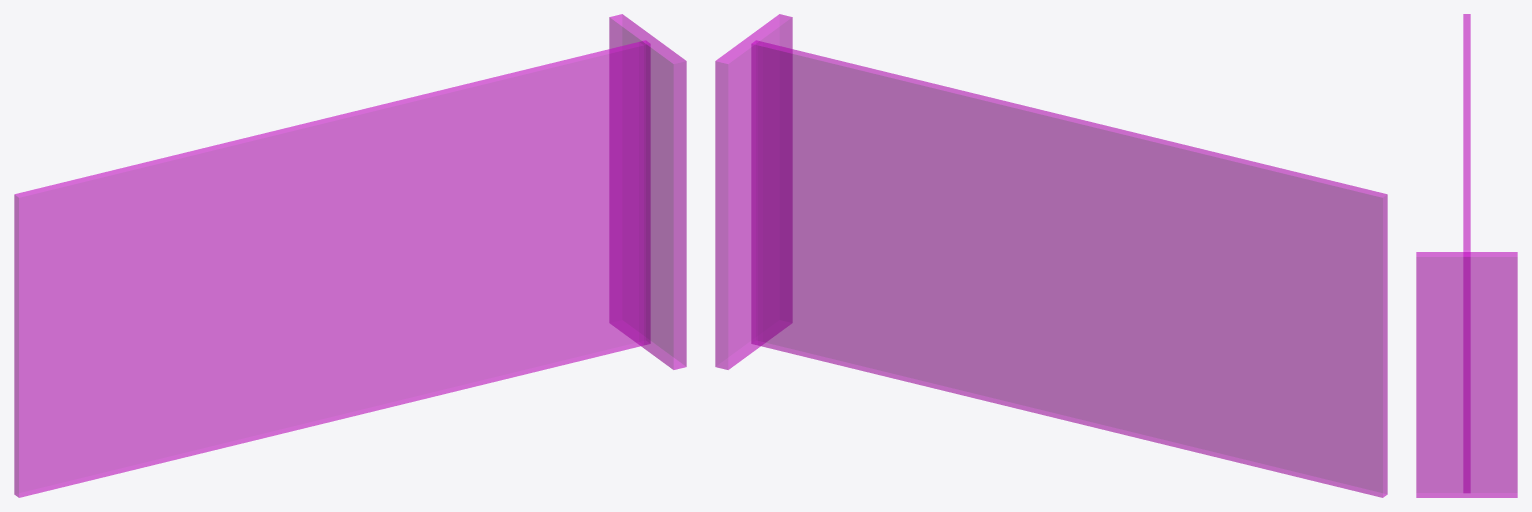
The model's file is SolarPanelsLeftCollider.fbx.
3 views of the same model, side by side, from view 1: azimuth 30°, elevation 25°; view 2: azimuth 150°, elevation 25°; view 3: azimuth 270°, elevation 25° (orthographic). The views are drawn at different scales.
Parts seen in each view (by area): view 1: SolarPanelsLeftCollision; view 2: SolarPanelsLeftCollision; view 3: SolarPanelsLeftCollision.
Part boxes in pixels (x1,y1,x2,y2): SolarPanelsLeftCollision: (14,14,686,497); SolarPanelsLeftCollision: (715,14,1387,497); SolarPanelsLeftCollision: (1416,14,1517,497).
Size of the model in its own units: 2355 by 1079 by 411.
